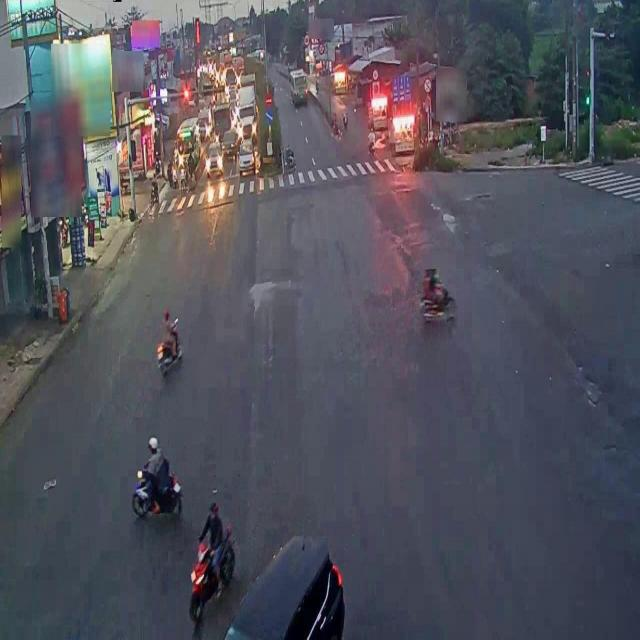car: (208, 531, 346, 640)
motorcycle: (186, 499, 230, 619), (137, 442, 186, 544), (417, 260, 457, 326), (153, 308, 183, 377)
